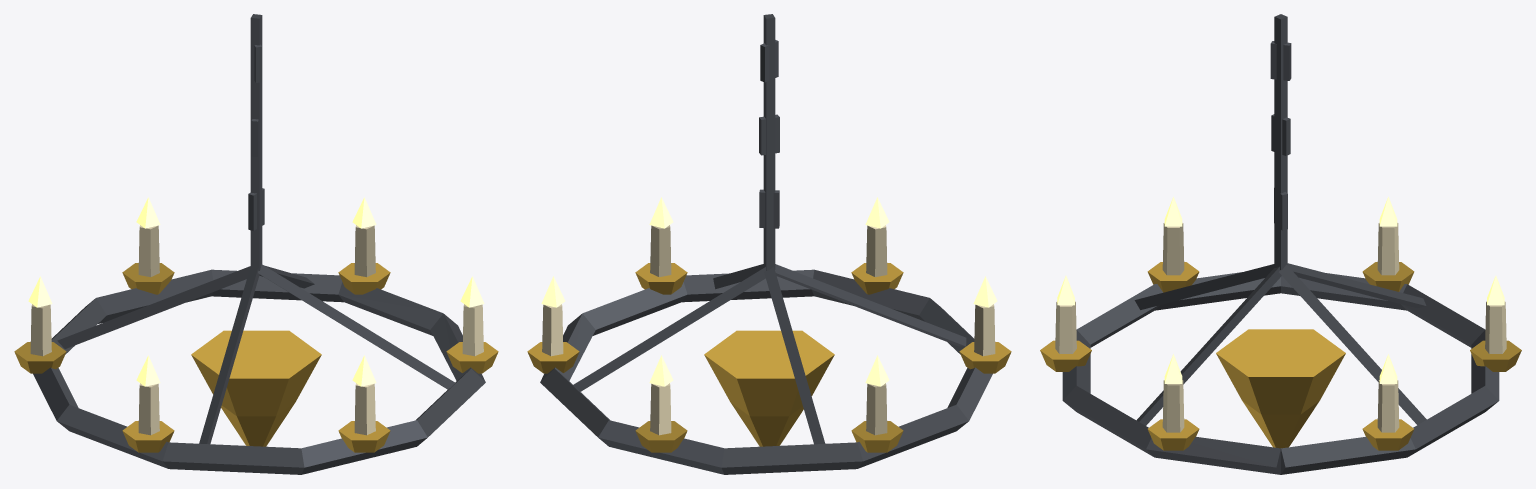
Rendered from chandelier.glb.
3 views of the same model, side by side, from view 1: azimuth 30°, elevation 25°; view 2: azimuth 150°, elevation 25°; view 3: azimuth 270°, elevation 25° (orthographic).
Parts seen in each view (by area): view 1: chandelier; view 2: chandelier; view 3: chandelier.
Part boxes in pixels (x1,y1,x2,y2): chandelier: [14, 14, 498, 474]; chandelier: [527, 14, 1011, 474]; chandelier: [1040, 14, 1521, 474].
Size of the model in its own units: 1.41 by 1.5 by 1.48.
